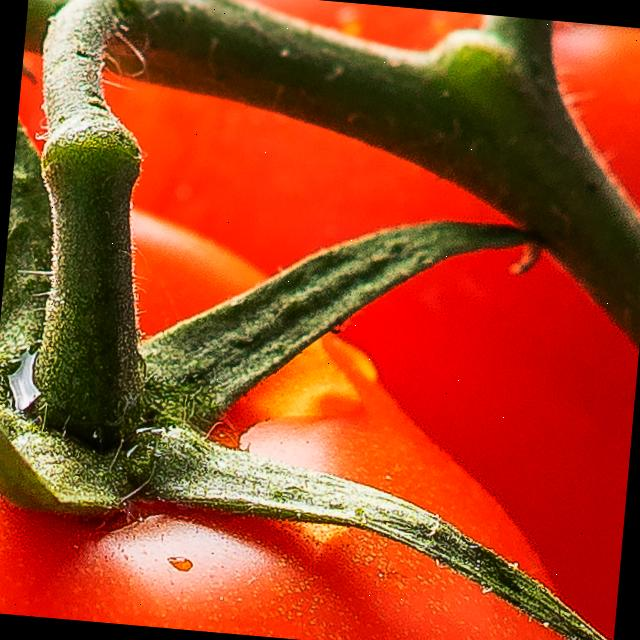tomato: (0, 0, 640, 640), (40, 0, 640, 640)
